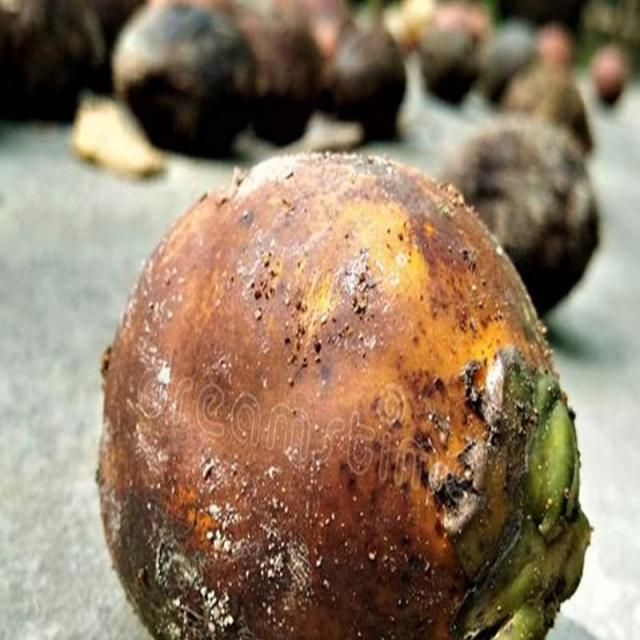damaged: (96, 154, 590, 639)
